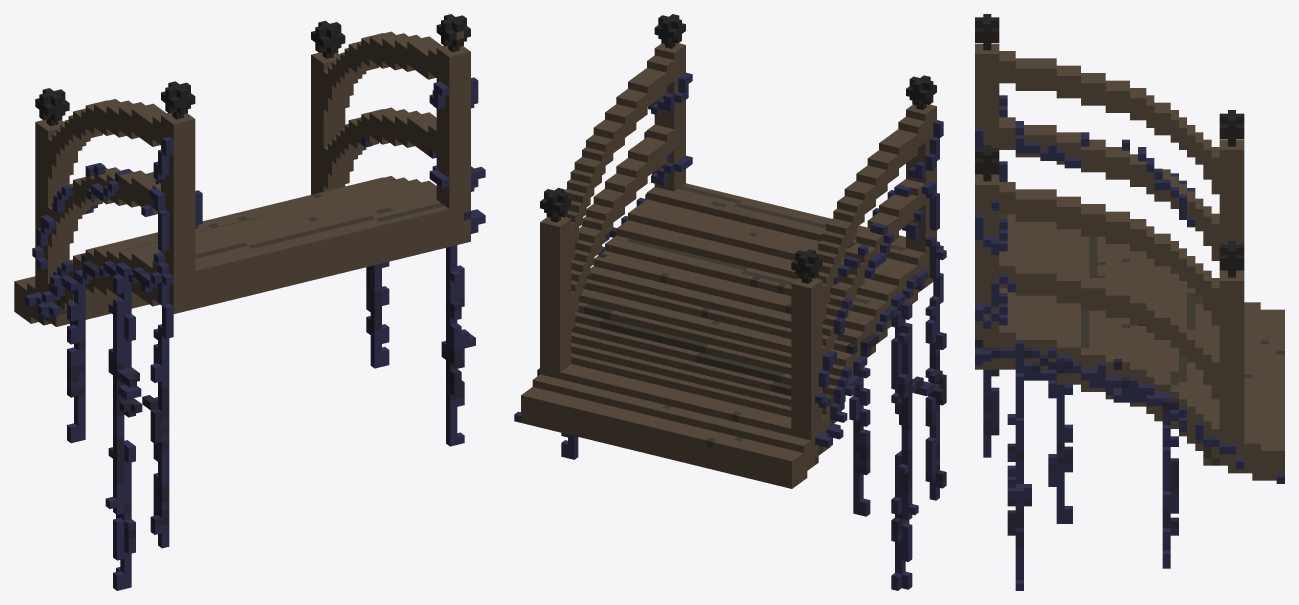
The model's file is pontg.obj.
3 views of the same model, side by side, from view 1: azimuth 30°, elevation 25°; view 2: azimuth 150°, elevation 25°; view 3: azimuth 270°, elevation 25° (orthographic). The views are drawn at different scales.
Size of the model in its own units: 4.8 by 6.9 by 3.8.
1 material, 1 textured.
